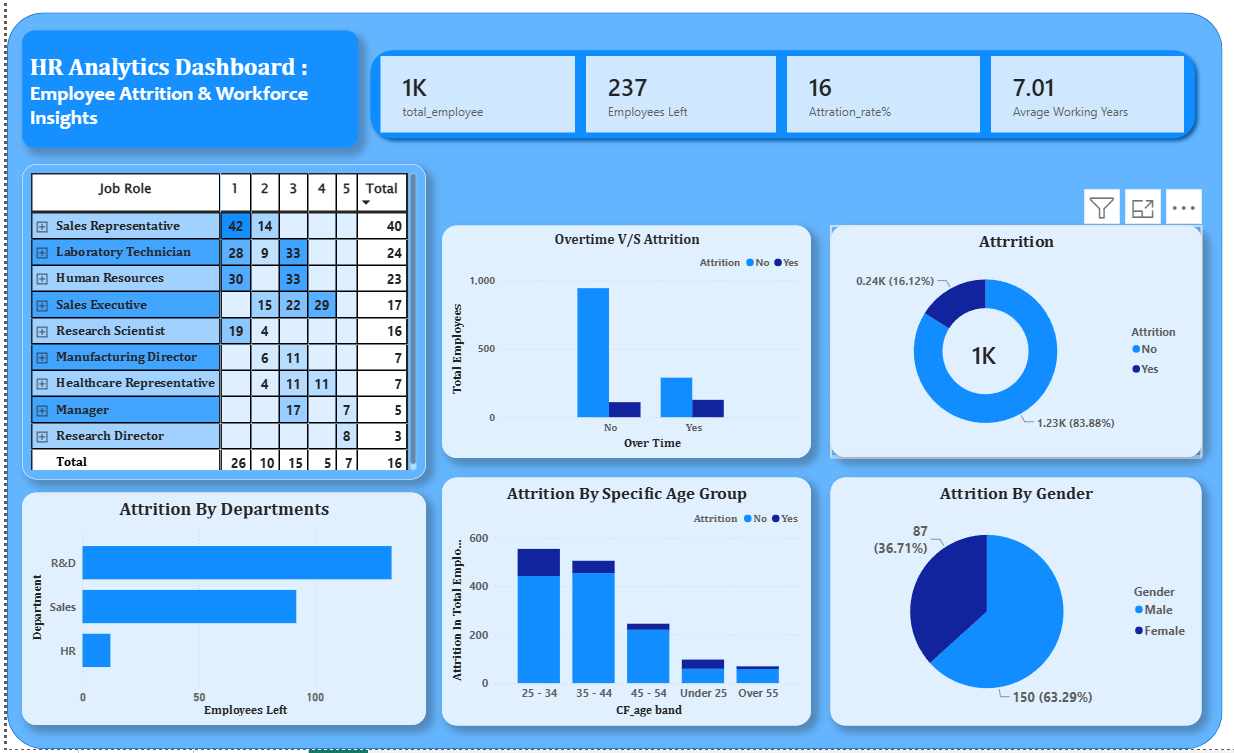

This screenshot's page, from the dashboard's own definition file:
{"tool":"powerbi","page":{"name":"Page 3","canvas":[1650,1000],"ordinal":2},"visuals":[{"type":"shape","box":[0,17.9,1620.5,982.1],"z":0},{"type":"shape","box":[474.4,59,1120.5,138.5],"z":0,"group":"g3"},{"type":"cardVisual","fields":{"Data":["Table1.tot_employees_left"]},"box":[773.5,76,253.2,102.1],"z":0,"group":"g1"},{"type":"donutChart","title":"Attrrition","fields":{"Category":["Table1.Attrition"],"Y":["CountNonNull(Table1.Attrition)"]},"box":[1097.4,302.6,495.4,308.5],"z":0,"group":"g2"},{"type":"group","id":"g1","title":"Group 1","box":[499,76,1071.8,102.6],"z":1000,"group":"g3"},{"type":"cardVisual","fields":{"Data":["Table1.remaning_employees"]},"box":[1041.6,76,257.4,102.1],"z":1000,"group":"g1"},{"type":"cardVisual","fields":{"Data":["Table1.total_employee"]},"box":[1235.7,438.2,133.9,67.3],"z":1000,"group":"g2"},{"type":"barChart","title":"Attrition By Departments","fields":{"Category":["Table1.Department"],"Y":["Table1.Employees Left"]},"box":[20.5,659,538.5,310.3],"z":1000},{"type":"cardVisual","fields":{"Data":["Table1.total_employee"]},"box":[499,76,259.6,102.1],"z":2000,"group":"g1"},{"type":"pieChart","title":"Attrition By Gender","fields":{"Category":["Table1.Gender"],"Y":["Table1.Employees Left"]},"box":[1097.4,638.5,494.9,330.8],"z":2000},{"type":"cardVisual","fields":{"Data":["Table1.Years_In_Company%"]},"box":[1313.9,76,257.4,102.1],"z":3000,"group":"g1"},{"type":"columnChart","title":"Attrition By Specific Age Group","fields":{"Category":["Table1.CF_age band"],"Series":["Table1.Attrition"],"Y":["Sum(Table1.Employee Count)"]},"box":[579.5,638.5,492.3,330.8],"z":3000},{"type":"clusteredColumnChart","title":"Overtime V/S Attrition","fields":{"Category":["Table1.Over Time"],"Y":["CountNonNull(Table1.Employee Number)"],"Series":["Table1.Attrition"]},"box":[579.5,302.6,492.3,310.3],"z":4000},{"type":"pivotTable","fields":{"Rows":["Table1.Job Role","Table1.Attrition"],"Columns":["Table1.Job Level"],"Values":["Table1.Attration_rate%"]},"box":[20.5,220.5,538.5,420.5],"z":5000},{"type":"group","id":"g2","title":"Group 2","box":[1097.4,302.6,494.9,310.3],"z":6000},{"type":"textbox","box":[20.5,41,448.7,156.4],"z":7000},{"type":"group","id":"g3","title":"Group 3","box":[474.4,59,1120.5,138.5],"z":8000}]}

Visuals, with their boxes in screenshot pixels (x1, y1, x2, y2), scaled from the page's 1650x1000 canvas onto the 1234x753 screenshot:
shape: (left=0, top=13, right=1212, bottom=752)
shape: (left=355, top=44, right=1193, bottom=149)
cardVisual - Table1.tot_employees_left: (left=578, top=57, right=768, bottom=134)
"Attrrition" donutChart: (left=821, top=228, right=1191, bottom=460)
"Group 1" group: (left=373, top=57, right=1175, bottom=134)
cardVisual - Table1.remaning_employees: (left=779, top=57, right=971, bottom=134)
cardVisual - Table1.total_employee: (left=924, top=330, right=1024, bottom=381)
"Attrition By Departments" barChart: (left=15, top=496, right=418, bottom=730)
cardVisual - Table1.total_employee: (left=373, top=57, right=567, bottom=134)
"Attrition By Gender" pieChart: (left=821, top=481, right=1191, bottom=730)
cardVisual - Table1.Years_In_Company%: (left=983, top=57, right=1175, bottom=134)
"Attrition By Specific Age Group" columnChart: (left=433, top=481, right=802, bottom=730)
"Overtime V/S Attrition" clusteredColumnChart: (left=433, top=228, right=802, bottom=462)
pivotTable - Table1.Job Role x Table1.Attrition: (left=15, top=166, right=418, bottom=483)
"Group 2" group: (left=821, top=228, right=1191, bottom=462)
textbox: (left=15, top=31, right=351, bottom=149)
"Group 3" group: (left=355, top=44, right=1193, bottom=149)
